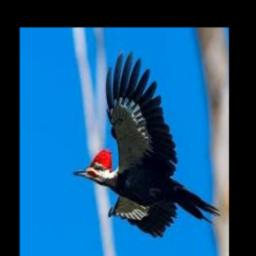Woodpecker: (74, 50, 221, 237)
